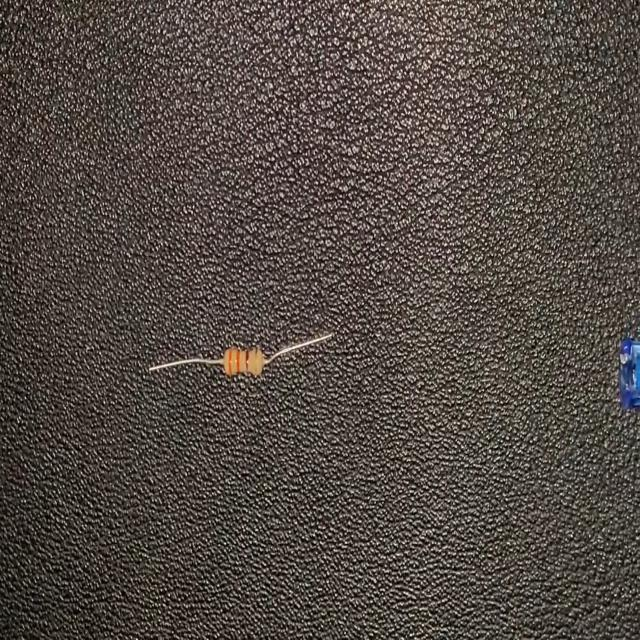faded: (253, 344, 264, 377)
resistor: (147, 320, 336, 380)
